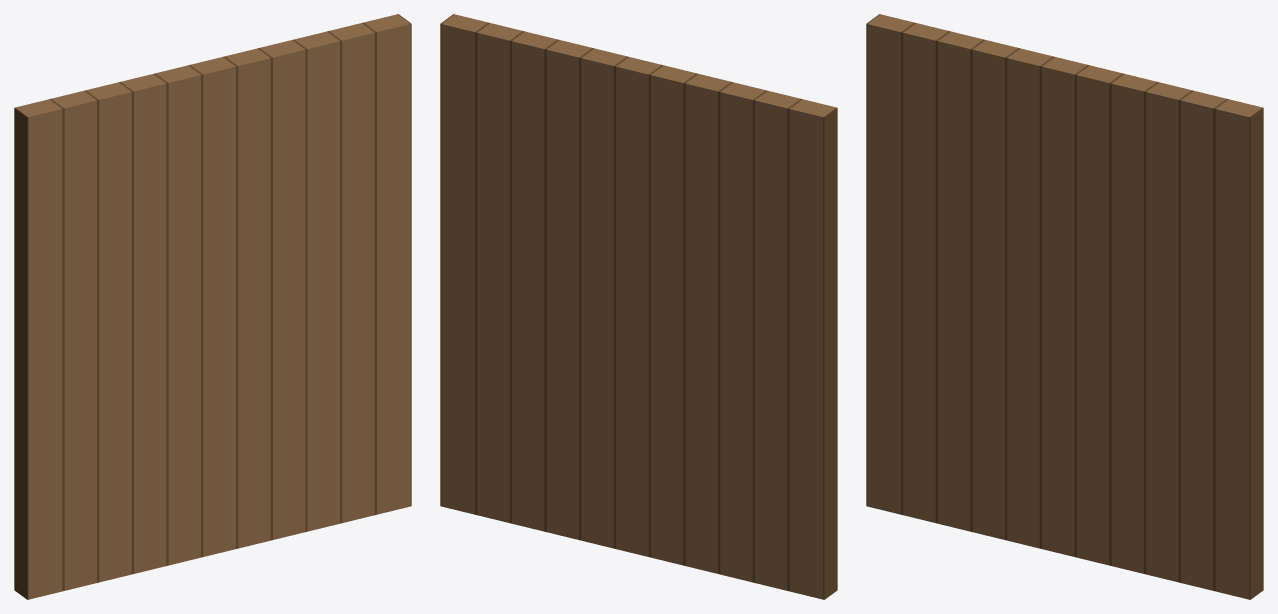
File: Wall2_C9_16.fbx
3 views of the same model, side by side, from view 1: azimuth 30°, elevation 25°; view 2: azimuth 150°, elevation 25°; view 3: azimuth 330°, elevation 25° (orthographic).
Parts seen in each view (by area): view 1: Wall2_C9_16; view 2: Wall2_C9_16; view 3: Wall2_C9_16.
Boxes of the visible parts, x1,y1,x2,y2 form: Wall2_C9_16: (14, 14, 411, 599); Wall2_C9_16: (440, 14, 837, 599); Wall2_C9_16: (866, 14, 1263, 599).
Bounding box in the file's own units: 250 × 300 × 15.
